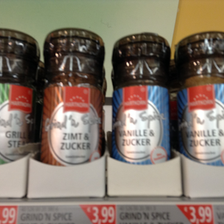spices: (42, 28, 105, 168), (109, 33, 172, 166), (174, 31, 224, 165), (1, 29, 39, 165)
